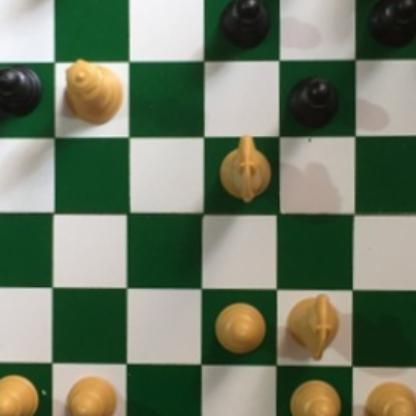black-pawn: (286, 72, 338, 130), (216, 0, 270, 50), (366, 0, 416, 51), (0, 65, 43, 118)
white-knight: (214, 133, 270, 208), (284, 292, 344, 362)
white-pawn: (213, 298, 267, 356), (60, 371, 121, 416), (284, 374, 344, 416), (0, 370, 45, 416), (362, 379, 416, 416)
white-queen: (60, 57, 126, 126)
